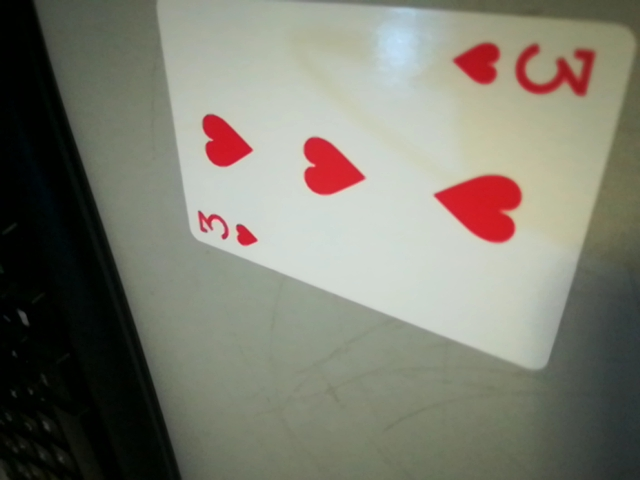hx 3: (450, 30, 612, 103)
